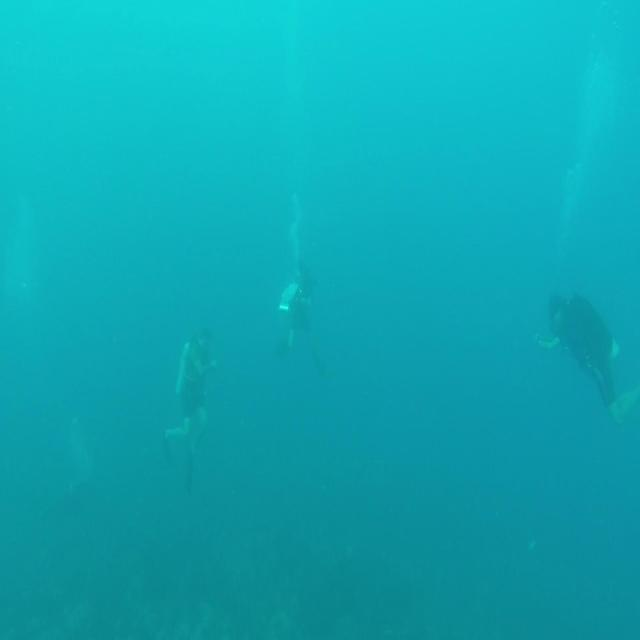human: (538, 289, 638, 426), (163, 323, 217, 492), (276, 256, 328, 376)
